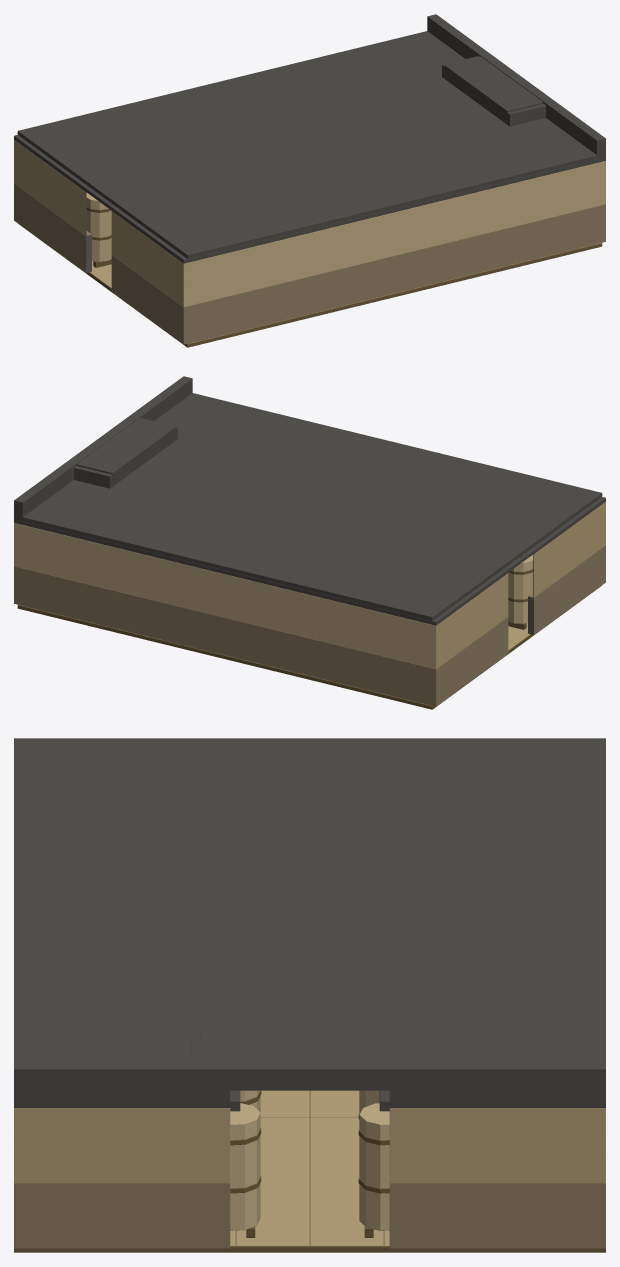
The model's file is gantry.glb.
3 views of the same model, one above another, from view 1: azimuth 30°, elevation 25°; view 2: azimuth 150°, elevation 25°; view 3: azimuth 270°, elevation 25° (orthographic). The views are drawn at different scales.
Parts seen in each view (by area): view 1: GANTRY; view 2: GANTRY; view 3: GANTRY.
Part boxes in pixels (x1,y1,x2,y2): GANTRY: (14, 14, 605, 347); GANTRY: (14, 376, 605, 709); GANTRY: (14, 738, 605, 1252).
Size of the model in its own units: 11.2 by 2.72 by 7.8.
